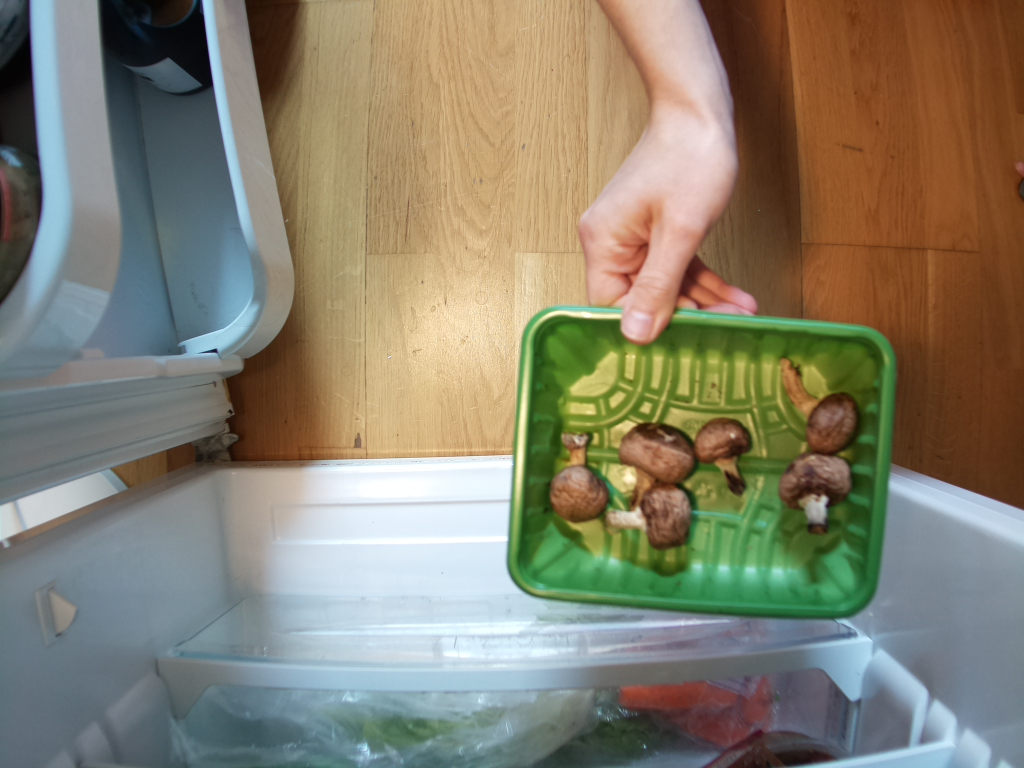mushrooms-bad: (513, 304, 904, 623)
